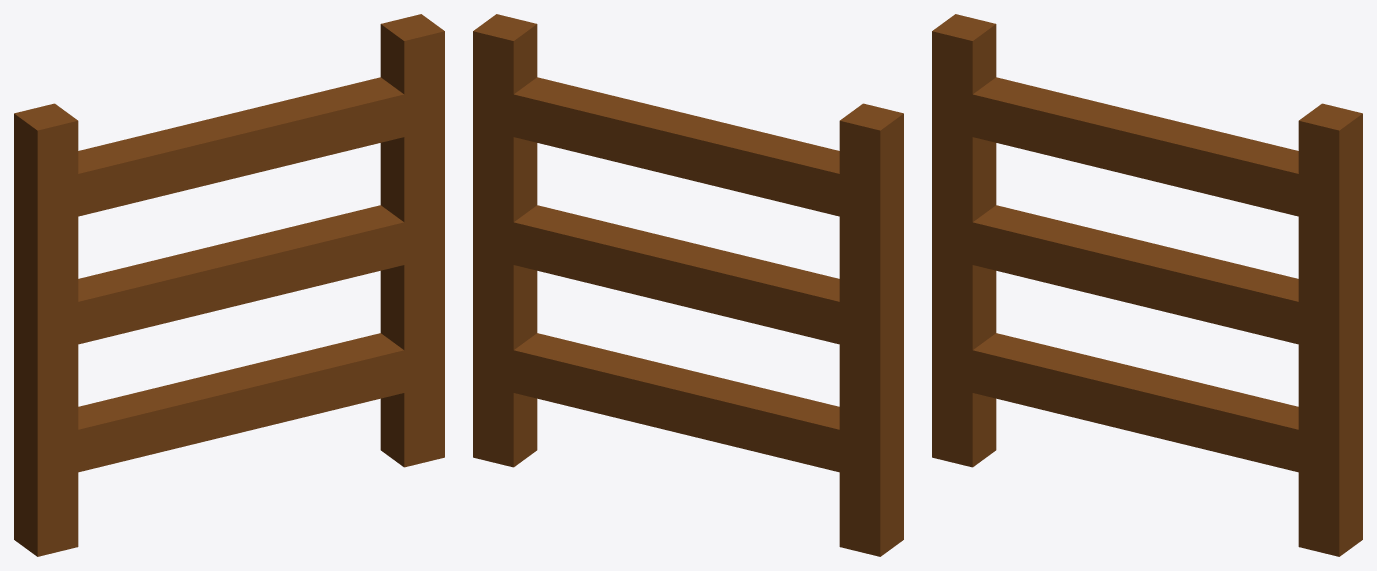
File: Ladder.fbx
3 renders of one model, left to right at view 1: azimuth 30°, elevation 25°; view 2: azimuth 150°, elevation 25°; view 3: azimuth 330°, elevation 25°, orthographic.
Visible parts, largest first — view 1: SM_Ladder; view 2: SM_Ladder; view 3: SM_Ladder.
Part boxes in pixels (x1,y1,x2,y2): SM_Ladder: (14,14,444,556); SM_Ladder: (473,14,903,556); SM_Ladder: (932,14,1362,556).
Size of the model in its own units: 117 by 117 by 11.75.
